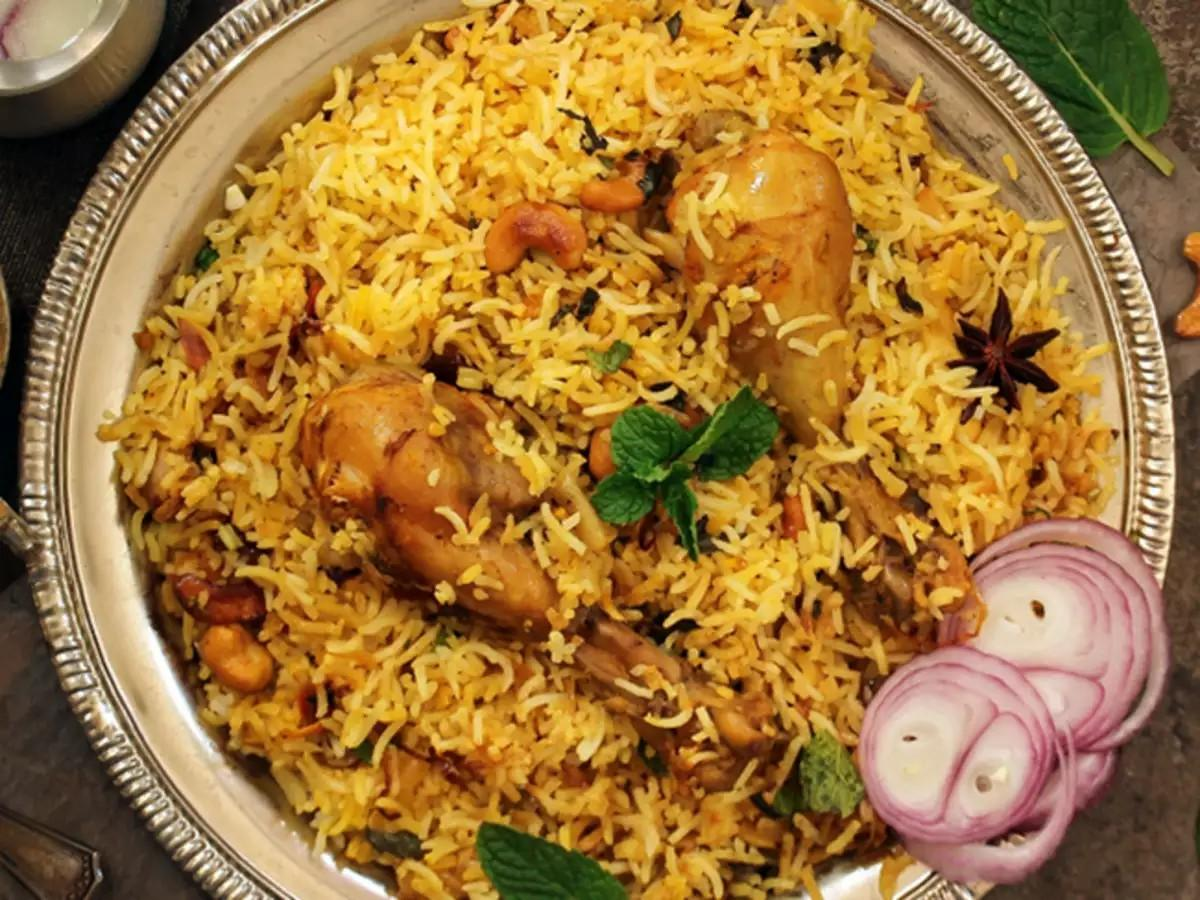Biryani: (96, 0, 1169, 900)
